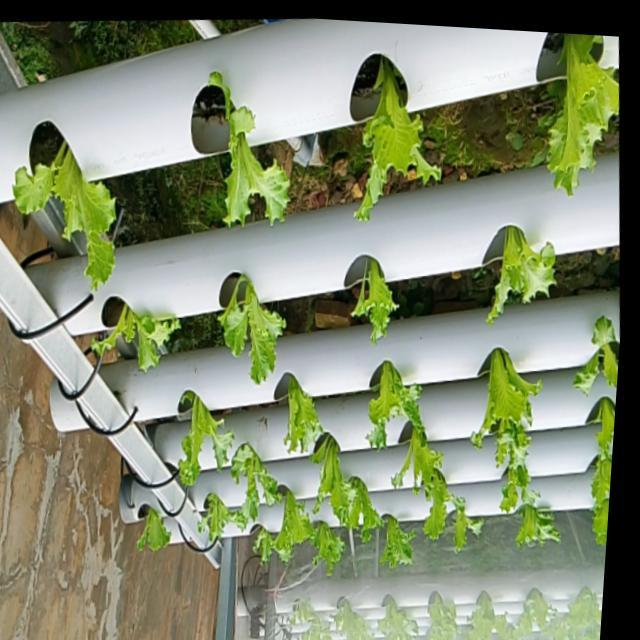Baby: (8, 146, 111, 295), (353, 60, 439, 224), (204, 76, 286, 230), (544, 33, 619, 196), (215, 280, 283, 390), (388, 423, 461, 518), (485, 227, 552, 326), (83, 312, 176, 380), (307, 434, 366, 530), (174, 395, 231, 491), (366, 489, 426, 576), (477, 348, 533, 434), (250, 491, 311, 566), (227, 445, 279, 530), (570, 315, 619, 395), (350, 262, 395, 347), (487, 402, 529, 492), (366, 363, 406, 449), (280, 377, 320, 456), (194, 496, 243, 551), (442, 495, 481, 552), (588, 452, 612, 535), (513, 503, 558, 547), (308, 522, 342, 577), (133, 515, 168, 558)
